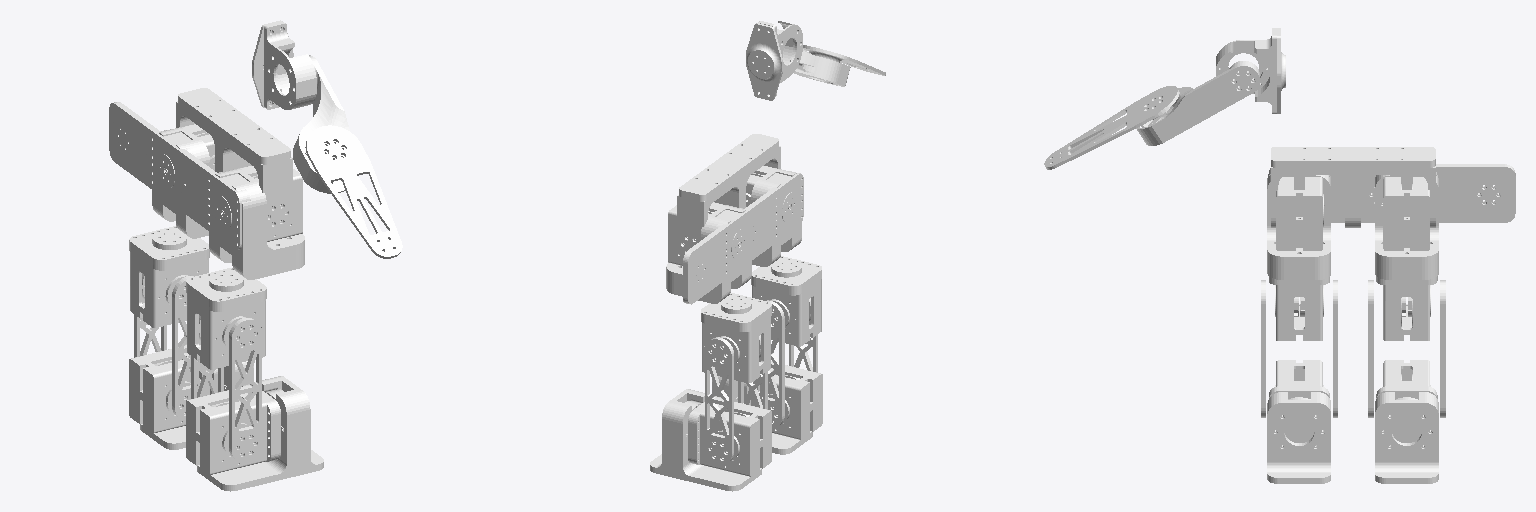
The robot description file, URDF, robot "nemo6":
<?xml version="1.0" ?>
<robot name="nemo6">
   <link name="pelvis">
      <inertial>
         <origin xyz="0.00505250 -0.00005977 0.18608225" rpy="0 0 0"/>
         <mass value="5.29698285"/>
         <inertia ixx="0.11381520" iyy="0.08283557" izz="0.05217409" ixy="-0.00002232" ixz="0.00625310" iyz="-0.00006998"/>
      </inertial>
      <visual name="pelvis">
         <origin xyz="0.0 0.0 0.0" rpy="0.0 0.0 0.0"/>
         <geometry>
            <mesh filename="package://prairie_control/meshes/nemo6/pelvis.stl"/>
         </geometry>
         <material name="white"/>
      </visual>
   </link>
   <link name="l_hip_pitch">
      <inertial>
      <!-- pos="-0.01821923 0 -3.205e-05", mass="1.8670971"
           fullinertia="0.00265583 0.00363357 0.00358009 -2e-07 -1.09e-06 0" -->
      <origin xyz="-0.01821923 0.0 -0.00003205" rpy="0 0 0"/>
      <mass value="1.8670971"/>
      <inertia
        ixx="0.00265583" ixy="-0.0000002"  ixz="-0.00000109"
        iyy="0.00363357" iyz="0.0"
        izz="0.00358009"/>
    </inertial>
      <visual name="l_hip_pitch">
         <geometry>
            <mesh filename="package://prairie_control/meshes/nemo6/l_hip_pitch.stl"/>
         </geometry>
         <material name="white"/>
      </visual>
   </link>
   <joint type="revolute" name="l_hip_pitch_joint">
      <parent link="pelvis"/>
      <child link="l_hip_pitch"/>
      <origin xyz="0.0 0.0965 -0.112" rpy="0 0 0"/>
      <axis xyz="0.0 1.0 0.0"/>
      <limit lower="-1.3" upper="1.3" effort="47.4" velocity="32"/>
      <dynamics damping="2.0" />
   </joint>
   <link name="l_hip_roll">
      <inertial>
         <origin xyz="-0.01740501 1.764e-05 -0.05845559" rpy="0.0004863223254489439 0.19610377555273417 0.0010392456801208367"/>
         <mass value="2.00459959"/>
         <inertia ixx="0.006611571483374219" iyy="0.006331359985392611" izz="0.0028985185312331704" ixy="0" ixz="0" iyz="0"/>
      </inertial>
      <visual name="l_hip_roll">
         <geometry>
            <mesh filename="package://prairie_control/meshes/nemo6/l_hip_roll.stl"/>
         </geometry>
         <material name="white"/>
      </visual>
   </link>
   <joint type="revolute" name="l_hip_roll_joint">
      <parent link="l_hip_pitch"/>
      <child link="l_hip_roll"/>
      <origin xyz="-0.07875 0.0 0.0" rpy="0 0 0"/>
      <axis xyz="1.0 0.0 0.0"/>
      <limit lower="-0.4" upper="1.5" effort="23.7" velocity="32"/>
      <dynamics damping="1.0" />
   </joint>
   <link name="l_hip_yaw">
      <inertial>
         <origin xyz="3.205e-05 -0.0 -0.06053076999999999" rpy="0.001179318771453497 0.0002045579945115783 1.5707921576398078"/>
         <mass value="1.8670971"/>
         <inertia ixx="0.003633570040911599" iyy="0.0035800912854579733" izz="0.0026558286736304273" ixy="0" ixz="0" iyz="0"/>
      </inertial>
      <visual name="l_hip_yaw">
         <geometry>
            <mesh filename="package://prairie_control/meshes/nemo6/l_hip_yaw.stl"/>
         </geometry>
         <material name="white"/>
      </visual>
   </link>
   <joint type="revolute" name="l_hip_yaw_joint">
      <parent link="l_hip_roll"/>
      <child link="l_hip_yaw"/>
      <origin xyz="0.00715 0.0 -0.1263" rpy="0 0 0"/>
      <axis xyz="0.0 0.0 1.0"/>
      <limit lower="-1.0" upper="1.0" effort="23.7" velocity="32"/>
      <dynamics damping="1.0" />
   </joint>
   <link name="l_knee">
      <inertial>
         <origin xyz="0.0 5e-05 -0.10289321" rpy="0.0 0.0 0.0"/>
         <mass value="0.58007416"/>
         <inertia ixx="0.0070466" iyy="0.00513742" izz="0.00225232" ixy="0" ixz="0" iyz="0"/>
      </inertial>
      <visual name="l_knee">
         <geometry>
            <mesh filename="package://prairie_control/meshes/nemo6/l_knee.stl"/>
         </geometry>
         <material name="white"/>
      </visual>
   </link>
   <joint type="revolute" name="l_knee_joint">
      <parent link="l_hip_yaw"/>
      <child link="l_knee"/>
      <origin xyz="0.0 0.0 -0.07875" rpy="0 0 0"/>
      <axis xyz="0.0 1.0 0.0"/>
      <limit lower="-2.0" upper="2.0" effort="47.4" velocity="32"/>
      <dynamics damping="2.0" />
   </joint>
   <link name="l_foot_pitch">
      <inertial>
         <origin xyz="0.01821923 -0.0 -3.205e-05" rpy="1.571975646419184 4.169155001454428e-06 1.57100088478941"/>
         <mass value="1.8670971"/>
         <inertia ixx="0.003633570040911599" iyy="0.0035800912854579733" izz="0.0026558286736304273" ixy="0" ixz="0" iyz="0"/>
      </inertial>
      <visual name="l_foot_pitch">
         <geometry>
            <mesh filename="package://prairie_control/meshes/nemo6/l_foot_pitch.stl"/>
         </geometry>
         <material name="white"/>
      </visual>
   </link>
   <joint type="revolute" name="l_foot_pitch_joint">
      <parent link="l_knee"/>
      <child link="l_foot_pitch"/>
      <origin xyz="0.0 0.0 -0.206" rpy="0 0 0"/>
      <axis xyz="0.0 1.0 0.0"/>
      <limit lower="-2.0" upper="2.0" effort="47.4" velocity="32"/>
      <dynamics damping="2.0" />
   </joint>
   <link name="l_foot_roll">
      <inertial>
         <origin xyz="0.00757956 1.139e-05 -0.03942379" rpy="2.3433878067998437 -0.0008879622578734647 1.569836156558178"/>
         <mass value="1.5526793"/>
         <inertia ixx="0.005416700784880941" iyy="0.004963623876621819" izz="0.0028013153384972476" ixy="0" ixz="0" iyz="0"/>
      </inertial>
      <visual name="l_foot_roll">
         <geometry>
            <mesh filename="package://prairie_control/meshes/nemo6/l_foot_roll.stl"/>
         </geometry>
         <material name="white"/>
      </visual>

      <collision>
        <origin xyz="-0.0187 0 -0.07975" rpy="0 0 0"/>
        <geometry>
          <box size="0.2 0.101 0.012"/>
        </geometry>
      </collision>
   </link>
   <joint type="revolute" name="l_foot_roll_joint">
      <parent link="l_foot_pitch"/>
      <child link="l_foot_roll"/>
      <origin xyz="0.07875 0.0 0.0" rpy="0 0 0"/>
      <axis xyz="1.0 0.0 0.0"/>
      <limit lower="-1.0" upper="1.0" effort="23.7" velocity="32"/>
      <dynamics damping="1.0" />
   </joint>
   <link name="r_hip_pitch">
      <inertial>
         <origin xyz="0.0 0.0 0.0" rpy="0.0 0.0 0.0"/>
         <mass value="1.8670971"/>
         <inertia ixx="0.003633570040911599" iyy="0.0035800912854579733" izz="0.0026558286736304273" ixy="0" ixz="0" iyz="0"/>
      </inertial>
      <visual name="r_hip_pitch">
         <geometry>
            <mesh filename="package://prairie_control/meshes/nemo6/l_hip_pitch.stl"/>
         </geometry>
         <material name="white"/>
      </visual>
   </link>
   <joint type="revolute" name="r_hip_pitch_joint">
      <parent link="pelvis"/>
      <child link="r_hip_pitch"/>
      <origin xyz="0.0 -0.0965 -0.112" rpy="0.0 0.0 0.0"/>
      <axis xyz="0.0 1.0 0.0"/>
      <limit lower="-1.3" upper="1.3" effort="47.4" velocity="32"/>
      <dynamics damping="2.0" />
   </joint>
   <link name="r_hip_roll">
      <inertial>
         <origin xyz="-0.01740501 1.764e-05 -0.05845559" rpy="0.0004863223254489439 0.19610377555273417 0.0010392456801208367"/>
         <mass value="2.00459959"/>
         <inertia ixx="0.006611571483374219" iyy="0.006331359985392611" izz="0.0028985185312331704" ixy="0" ixz="0" iyz="0"/>
      </inertial>
      <visual name="r_hip_roll">
         <geometry>
            <mesh filename="package://prairie_control/meshes/nemo6/l_hip_roll.stl"/>
         </geometry>
         <material name="white"/>
      </visual>
   </link>
   <joint type="revolute" name="r_hip_roll_joint">
      <parent link="r_hip_pitch"/>
      <child link="r_hip_roll"/>
      <origin xyz="-0.07875 0.0 0.0" rpy="0 0 0"/>
      <axis xyz="1.0 0.0 0.0"/>
      <limit lower="-1.5" upper="0.4" effort="23.7" velocity="32"/>
      <dynamics damping="1.0" />
   </joint>
   <link name="r_hip_yaw">
      <inertial>
         <origin xyz="3.205e-05 -0.0 -0.06053076999999999" rpy="0.001179318771453497 0.0002045579945115783 1.5707921576398078"/>
         <mass value="1.8670971"/>
         <inertia ixx="0.003633570040911599" iyy="0.0035800912854579733" izz="0.0026558286736304273" ixy="0" ixz="0" iyz="0"/>
      </inertial>
      <visual name="r_hip_yaw">
         <geometry>
            <mesh filename="package://prairie_control/meshes/nemo6/l_hip_yaw.stl"/>
         </geometry>
         <material name="white"/>
      </visual>
   </link>
   <joint type="revolute" name="r_hip_yaw_joint">
      <parent link="r_hip_roll"/>
      <child link="r_hip_yaw"/>
      <origin xyz="0.00715 0.0 -0.1263" rpy="0 0 0"/>
      <axis xyz="0.0 0.0 1.0"/>
      <limit lower="-1.0" upper="1.0" effort="23.7" velocity="32"/>
      <dynamics damping="1.0" />
   </joint>
   <link name="r_knee">
      <inertial>
         <origin xyz="0.0 5e-05 -0.10289321" rpy="0.0 0.0 0.0"/>
         <mass value="0.58007416"/>
         <inertia ixx="0.0070466" iyy="0.00513742" izz="0.00225232" ixy="0" ixz="0" iyz="0"/>
      </inertial>
      <visual name="l_knee">
         <geometry>
            <mesh filename="package://prairie_control/meshes/nemo6/l_knee.stl"/>
         </geometry>
         <material name="white"/>
      </visual>
   </link>
   <joint type="revolute" name="r_knee_joint">
      <parent link="r_hip_yaw"/>
      <child link="r_knee"/>
      <origin xyz="0.0 0.0 -0.07875" rpy="0 0 0"/>
      <axis xyz="0.0 1.0 0.0"/>
      <limit lower="-2.0" upper="2.0" effort="47.4" velocity="32"/>
      <dynamics damping="2.0" />
   </joint>
   <link name="r_foot_pitch">
      <inertial>
         <origin xyz="0.01821923 -0.0 -3.205e-05" rpy="1.571975646419184 4.169155001454428e-06 1.57100088478941"/>
         <mass value="1.8670971"/>
         <inertia ixx="0.003633570040911599" iyy="0.0035800912854579733" izz="0.0026558286736304273" ixy="0" ixz="0" iyz="0"/>
      </inertial>
      <visual name="l_foot_pitch">
         <geometry>
            <mesh filename="package://prairie_control/meshes/nemo6/l_foot_pitch.stl"/>
         </geometry>
         <material name="white"/>
      </visual>
   </link>
   <joint type="revolute" name="r_foot_pitch_joint">
      <parent link="r_knee"/>
      <child link="r_foot_pitch"/>
      <origin xyz="0.0 0.0 -0.206" rpy="0 0 0"/>
      <axis xyz="0.0 1.0 0.0"/>
      <limit lower="-2.0" upper="2.0" effort="47.4" velocity="32"/>
      <dynamics damping="2.0" />
   </joint>
   <link name="r_foot_roll">
      <inertial>
         <origin xyz="0.00757956 1.139e-05 -0.03942379" rpy="2.3433878067998437 -0.0008879622578734647 1.569836156558178"/>
         <mass value="1.5526793"/>
         <inertia ixx="0.005416700784880941" iyy="0.004963623876621819" izz="0.0028013153384972476" ixy="0" ixz="0" iyz="0"/>
      </inertial>
      <visual name="l_foot_roll">
         <geometry>
            <mesh filename="package://prairie_control/meshes/nemo6/l_foot_roll.stl"/>
         </geometry>
         <material name="white"/>
      </visual>

      <collision>
        <origin xyz="-0.0187 0 -0.07975" rpy="0 0 0"/>
        <geometry>
          <box size="0.2 0.101 0.012"/>
        </geometry>
      </collision>
   </link>
   <joint type="revolute" name="r_foot_roll_joint">
      <parent link="r_foot_pitch"/>
      <child link="r_foot_roll"/>
      <origin xyz="0.07875 0.0 0.0" rpy="0 0 0"/>
      <axis xyz="1.0 0.0 0.0"/>
      <limit lower="-1.0" upper="1.0" effort="23.7" velocity="32"/>
      <dynamics damping="1.0" />
   </joint>
   <!-- Added upper limbs -->
   <link name="l_shoulder_pitch">
      <inertial>
         <origin xyz="0.0022 -0.05981 0.0" rpy="0 0 0"/>
         <mass value="0.89824188"/>
         <inertia ixx="0.00181720" iyy="0.00091278" izz="0.00118927" ixy="0" ixz="0" iyz="0"/>
      </inertial>
      <visual name="l_shoulder_pitch">
         <geometry>
            <mesh filename="package://prairie_control/meshes/nemo6/l_shoulder_pitch.stl"/>
         </geometry>
         <material name="white"/>
      </visual>
   </link>
   <joint type="revolute" name="l_shoulder_pitch_joint">
      <parent link="pelvis"/>
      <child link="l_shoulder_pitch"/>
      <origin xyz="-0.001404 0.1199 0.163" rpy="0 0 0"/>
      <axis xyz="0 1 0"/>
      <limit lower="-1.5" upper="1.5" effort="23.7" velocity="32"/>
      <dynamics damping="1.0" />
   </joint>
   <link name="l_shoulder_roll">
      <inertial>
         <origin xyz="-0.01717369 0.00501388 -0.13591536" rpy="0 0 0"/>
         <mass value="1.01634729"/>
         <inertia ixx="0.00374627" iyy="0.00437525" izz="0.00097343" ixy="0" ixz="0" iyz="0"/>
      </inertial>
      <visual name="l_shoulder_roll">
         <geometry>
            <mesh filename="package://prairie_control/meshes/nemo6/l_shoulder_roll.stl"/>
         </geometry>
         <material name="white"/>
      </visual>
   </link>
   <joint type="revolute" name="l_shoulder_roll_joint">
      <parent link="l_shoulder_pitch"/>
      <child link="l_shoulder_roll"/>
      <origin xyz="0.020174 0.0765 0.0009" rpy="0 0 0"/>
      <axis xyz="1 0 0"/>
      <limit lower="0.04" upper="2.0" effort="23.7" velocity="32"/>
      <dynamics damping="1.0" />
   </joint>
   <link name="l_elbow">
      <inertial>
         <origin xyz="0 -0.0113 -0.05618" rpy="0 0 0"/>
         <mass value="0.19590289"/>
         <inertia ixx="0.00111956" iyy="0.00122819" izz="0.00011420" ixy="0" ixz="0" iyz="0"/>
      </inertial>
      <visual name="l_elbow">
         <geometry>
            <mesh filename="package://prairie_control/meshes/nemo6/l_elbow.stl"/>
         </geometry>
         <material name="white"/>
      </visual>
   </link>
   <joint type="revolute" name="l_elbow_joint">
      <parent link="l_shoulder_roll"/>
      <child link="l_elbow"/>
      <origin xyz="-0.027502 0.0104 -0.173047" rpy="0 0 0"/>
      <axis xyz="0 1 0"/>
      <limit lower="-1.0" upper="1.0" effort="23.7" velocity="32"/>
      <dynamics damping="1.0" />
   </joint>
   <link name="r_shoulder_pitch">
      <inertial>
         <origin xyz="0.0022 0.05981 0.0" rpy="0 0 0"/>
         <mass value="0.89824188"/>
         <inertia ixx="0.00181720" iyy="0.00091278" izz="0.00118927" ixy="0" ixz="0" iyz="0"/>
      </inertial>
      <visual name="r_shoulder_pitch">
         <geometry>
            <mesh filename="package://prairie_control/meshes/nemo6/r_shoulder_pitch.stl"/>
         </geometry>
         <material name="white"/>
      </visual>
   </link>
   <joint type="revolute" name="r_shoulder_pitch_joint">
      <parent link="pelvis"/>
      <child link="r_shoulder_pitch"/>
      <origin xyz="-0.001404 -0.1199 0.163" rpy="0 0 0"/>
      <axis xyz="0 1 0"/>
      <limit lower="-1.5" upper="1.5" effort="23.7" velocity="32"/>
      <dynamics damping="1.0" />
   </joint>
   <link name="r_shoulder_roll">
      <inertial>
         <origin xyz="-0.01717369 -0.00501388 -0.13591536" rpy="0 0 0"/>
         <mass value="1.01634729"/>
         <inertia ixx="0.00374627" iyy="0.00437525" izz="0.00097343" ixy="0" ixz="0" iyz="0"/>
      </inertial>
      <visual name="r_shoulder_roll">
         <geometry>
            <mesh filename="package://prairie_control/meshes/nemo6/r_shoulder_roll.stl"/>
         </geometry>
         <material name="white"/>
      </visual>
   </link>
   <joint type="revolute" name="r_shoulder_roll_joint">
      <parent link="r_shoulder_pitch"/>
      <child link="r_shoulder_roll"/>
      <origin xyz="0.020174 -0.0765 0.0009" rpy="0 0 0"/>
      <axis xyz="1 0 0"/>
      <limit lower="-2.0" upper="-0.04" effort="23.7" velocity="32"/>
      <dynamics damping="1.0" />
   </joint>
   <link name="r_elbow">
      <inertial>
         <origin xyz="0 0.0113 -0.05618" rpy="0 0 0"/>
         <mass value="0.19590289"/>
         <inertia ixx="0.00111956" iyy="0.00122819" izz="0.00011420" ixy="0" ixz="0" iyz="0"/>
      </inertial>
      <visual name="r_elbow">
         <geometry>
            <mesh filename="package://prairie_control/meshes/nemo6/r_elbow.stl"/>
         </geometry>
         <material name="white"/>
      </visual>
   </link>
   <joint type="revolute" name="r_elbow_joint">
      <parent link="r_shoulder_roll"/>
      <child link="r_elbow"/>
      <origin xyz="-0.027502 -0.0104 -0.173047" rpy="0 0 0"/>
      <axis xyz="0 1 0"/>
      <limit lower="-1.0" upper="1.0" effort="23.7" velocity="32"/>
      <dynamics damping="1.0" />
   </joint>
   <material name="white">
      <color rgba="1 1 1 1"/>
   </material>

   <gazebo>
    <plugin name="gz::sim::systems::JointStatePublisher" filename="gz-sim-joint-state-publisher-system">
      <update_rate>2000</update_rate>
        <joint_name>l_hip_pitch_joint</joint_name>
        <joint_name>l_hip_roll_joint</joint_name>
        <joint_name>l_hip_yaw_joint</joint_name>
        <joint_name>l_knee_joint</joint_name>
        <joint_name>l_foot_pitch_joint</joint_name>
        <joint_name>l_foot_roll_joint</joint_name>
        <joint_name>r_hip_pitch_joint</joint_name>
        <joint_name>r_hip_roll_joint</joint_name>
        <joint_name>r_hip_yaw_joint</joint_name>
        <joint_name>r_knee_joint</joint_name>
        <joint_name>r_foot_pitch_joint</joint_name>
        <joint_name>r_foot_roll_joint</joint_name>
        <joint_name>l_shoulder_pitch_joint</joint_name>
        <joint_name>l_shoulder_roll_joint</joint_name>
        <joint_name>l_elbow_joint</joint_name>
        <joint_name>r_shoulder_pitch_joint</joint_name>
        <joint_name>r_shoulder_roll_joint</joint_name>
        <joint_name>r_elbow_joint</joint_name>
    </plugin>        ('share/' + package_name + '/meshes/nemo4b', glob('meshes/nemo4b/*')),
  </gazebo>

  <gazebo>
    <plugin name="gz::sim::systems::JointTrajectoryController" filename="gz-sim-joint-trajectory-controller-system">
      <joint_name>l_hip_pitch_joint</joint_name>
      <use_header_start_time>false</use_header_start_time>
      <position_p_gain>35</position_p_gain>
      <position_d_gain>0</position_d_gain>
      <velocity_p_gain>0</velocity_p_gain>
      <velocity_d_gain>0</velocity_d_gain>

      <joint_name>l_hip_roll_joint</joint_name>
      <use_header_start_time>false</use_header_start_time>
      <position_p_gain>25</position_p_gain>
      <position_d_gain>0</position_d_gain>
      <velocity_p_gain>0</velocity_p_gain>
      <velocity_d_gain>0</velocity_d_gain>

      <joint_name>l_hip_yaw_joint</joint_name>
      <use_header_start_time>false</use_header_start_time>
      <position_p_gain>25</position_p_gain>
      <position_d_gain>0</position_d_gain>
      <velocity_p_gain>0</velocity_p_gain>
      <velocity_d_gain>0</velocity_d_gain>

      <joint_name>l_knee_joint</joint_name>
      <use_header_start_time>false</use_header_start_time>
      <position_p_gain>35</position_p_gain>
      <position_d_gain>0</position_d_gain>
      <velocity_p_gain>0</velocity_p_gain>
      <velocity_d_gain>0</velocity_d_gain>

      <joint_name>l_foot_pitch_joint</joint_name>
      <use_header_start_time>false</use_header_start_time>
      <position_p_gain>35</position_p_gain>
      <position_d_gain>0</position_d_gain>
      <velocity_p_gain>0</velocity_p_gain>
      <velocity_d_gain>0</velocity_d_gain>

      <joint_name>l_foot_roll_joint</joint_name>
      <use_header_start_time>false</use_header_start_time>
      <position_p_gain>25</position_p_gain>
      <position_d_gain>0</position_d_gain>
      <velocity_p_gain>0</velocity_p_gain>
      <velocity_d_gain>0</velocity_d_gain>

      <joint_name>r_hip_pitch_joint</joint_name>
      <use_header_start_time>false</use_header_start_time>
      <position_p_gain>35</position_p_gain>
      <position_d_gain>0</position_d_gain>
      <velocity_p_gain>0</velocity_p_gain>
      <velocity_d_gain>0</velocity_d_gain>

      <joint_name>r_hip_roll_joint</joint_name>
      <use_header_start_time>false</use_header_start_time>
      <position_p_gain>25</position_p_gain>
      <position_d_gain>0</position_d_gain>
      <velocity_p_gain>0</velocity_p_gain>
      <velocity_d_gain>0</velocity_d_gain>

      <joint_name>r_hip_yaw_joint</joint_name>
      <use_header_start_time>false</use_header_start_time>
      <position_p_gain>25</position_p_gain>
      <position_d_gain>0</position_d_gain>
      <velocity_p_gain>0</velocity_p_gain>
      <velocity_d_gain>0</velocity_d_gain>

      <joint_name>r_knee_joint</joint_name>
      <use_header_start_time>false</use_header_start_time>
      <position_p_gain>35</position_p_gain>
      <position_d_gain>0</position_d_gain>
      <velocity_p_gain>0</velocity_p_gain>
      <velocity_d_gain>0</velocity_d_gain>

      <joint_name>r_foot_pitch_joint</joint_name>
      <use_header_start_time>false</use_header_start_time>
      <position_p_gain>35</position_p_gain>
      <position_d_gain>0</position_d_gain>
      <velocity_p_gain>0</velocity_p_gain>
      <velocity_d_gain>0</velocity_d_gain>

      <joint_name>r_foot_roll_joint</joint_name>
      <use_header_start_time>false</use_header_start_time>
      <position_p_gain>25</position_p_gain>
      <position_d_gain>0</position_d_gain>
      <velocity_p_gain>0</velocity_p_gain>
      <velocity_d_gain>0</velocity_d_gain>

      <joint_name>l_shoulder_pitch_joint</joint_name>
      <use_header_start_time>false</use_header_start_time>
      <position_p_gain>5</position_p_gain>
      <position_d_gain>0</position_d_gain>
      <velocity_p_gain>0</velocity_p_gain>
      <velocity_d_gain>0</velocity_d_gain>

      <joint_name>l_shoulder_roll_joint</joint_name>
      <use_header_start_time>false</use_header_start_time>
      <position_p_gain>5</position_p_gain>
      <position_d_gain>0</position_d_gain>
      <velocity_p_gain>0</velocity_p_gain>
      <velocity_d_gain>0</velocity_d_gain>

      <joint_name>l_elbow_joint</joint_name>
      <use_header_start_time>false</use_header_start_time>
      <position_p_gain>5</position_p_gain>
      <position_d_gain>0</position_d_gain>
      <velocity_p_gain>0</velocity_p_gain>
      <velocity_d_gain>0</velocity_d_gain>

      <joint_name>r_shoulder_pitch_joint</joint_name>
      <use_header_start_time>false</use_header_start_time>
      <position_p_gain>5</position_p_gain>
      <position_d_gain>0</position_d_gain>
      <velocity_p_gain>0</velocity_p_gain>
      <velocity_d_gain>0</velocity_d_gain>

      <joint_name>r_shoulder_roll_joint</joint_name>
      <use_header_start_time>false</use_header_start_time>
      <position_p_gain>5</position_p_gain>
      <position_d_gain>0</position_d_gain>
      <velocity_p_gain>0</velocity_p_gain>
      <velocity_d_gain>0</velocity_d_gain>

      <joint_name>r_elbow_joint</joint_name>
      <use_header_start_time>false</use_header_start_time>
      <position_p_gain>5</position_p_gain>
      <position_d_gain>0</position_d_gain>
      <velocity_p_gain>0</velocity_p_gain>
      <velocity_d_gain>0</velocity_d_gain>
    </plugin>
    <plugin
       filename="gz-sim-pose-publisher-system"
       name="gz::sim::systems::PosePublisher">
       <publish_link_pose>true</publish_link_pose>
       <use_pose_vector_msg>true</use_pose_vector_msg>
    </plugin>
    <plugin
       filename="gz-sim-odometry-publisher-system"
       name="gz::sim::systems::OdometryPublisher">
       <odom_publish_frequency>10000</odom_publish_frequency>
       <robot_base_frame>h1/pelvis</robot_base_frame>
       <dimensions>3</dimensions>
    </plugin>

  </gazebo>
  <gazebo reference="pelvis">
    <sensor name="imu_sensor" type="imu">
       <always_on>1</always_on>
       <update_rate>1000</update_rate>
       <visualize>true</visualize>
       <topic>imu</topic>
       <plugin
        filename="gz-sim-imu-system"
        name="gz::sim::systems::Imu">
        </plugin>
    </sensor>
  </gazebo>
</robot>

--- What the picture shows (computed from the rendered views, not written in the file) ---
The picture shows the robot from 3 angles, left to right: view 1: azimuth 30°, elevation 25°; view 2: azimuth 150°, elevation 25°; view 3: azimuth 270°, elevation 25°; orthographic projection.
Robot: nemo6 — 19 links, 18 joints (18 revolute); root link pelvis; default pose: joints at zero except 2 at the middle of their limits (l_shoulder_roll_joint = 1.02, r_shoulder_roll_joint = -1.02).
Links seen in each view (by area): view 1: pelvis, r_hip_yaw, r_elbow, l_hip_yaw, r_foot_pitch, r_hip_roll, r_foot_roll, r_hip_pitch, l_hip_pitch, r_knee, r_shoulder_pitch, l_foot_pitch (+4 smaller); view 2: pelvis, l_hip_yaw, r_hip_yaw, l_hip_pitch, l_foot_pitch, l_foot_roll, l_knee, r_shoulder_pitch, r_hip_pitch, r_foot_pitch, r_knee, l_hip_roll (+4 smaller); view 3: l_hip_pitch, pelvis, r_foot_roll, l_foot_roll, r_hip_pitch, r_shoulder_roll, r_hip_roll, l_hip_roll, r_hip_yaw, r_elbow, l_hip_yaw, r_shoulder_pitch (+4 smaller).
Boxes of the visible links, x1,y1,x2,y2 form: pelvis: [176, 88, 292, 231]; r_hip_yaw: [186, 268, 266, 369]; r_elbow: [306, 125, 402, 258]; l_hip_yaw: [129, 226, 209, 327]; r_foot_pitch: [186, 384, 280, 474]; r_hip_roll: [209, 168, 304, 279]; r_foot_roll: [197, 376, 323, 491]; r_hip_pitch: [167, 145, 302, 250]; l_hip_pitch: [109, 102, 214, 208]; r_knee: [191, 318, 261, 461]; r_shoulder_pitch: [252, 20, 316, 109]; l_foot_pitch: [129, 344, 217, 433]; pelvis: [677, 134, 780, 256]; l_hip_yaw: [701, 293, 771, 382]; r_hip_yaw: [751, 256, 821, 346]; l_hip_pitch: [668, 202, 752, 304]; l_foot_pitch: [688, 396, 771, 476]; l_foot_roll: [650, 389, 761, 491]; l_knee: [705, 337, 767, 465]; r_shoulder_pitch: [746, 21, 802, 100]; r_hip_pitch: [739, 166, 803, 267]; r_foot_pitch: [744, 361, 822, 439]; r_knee: [755, 300, 817, 428]; l_hip_roll: [666, 205, 751, 303]; l_hip_pitch: [1376, 164, 1515, 250]; pelvis: [1271, 147, 1435, 227]; r_foot_roll: [1267, 392, 1330, 483]; l_foot_roll: [1375, 392, 1438, 483]; r_hip_pitch: [1269, 168, 1375, 250]; r_shoulder_roll: [1136, 61, 1259, 145]; r_hip_roll: [1267, 174, 1330, 279]; l_hip_roll: [1375, 175, 1438, 279]; r_hip_yaw: [1269, 277, 1329, 340]; r_elbow: [1044, 86, 1179, 169]; l_hip_yaw: [1376, 276, 1437, 340]; r_shoulder_pitch: [1216, 28, 1285, 113].
Bounding box of the posed robot: 0.2225 × 0.8456 × 0.8507 m (x, y, z).
Meshes: 13 distinct files referenced, 16 mesh visuals loaded (10 binary STL); not drawn: 3 (reference not matched to a file when rendering).
